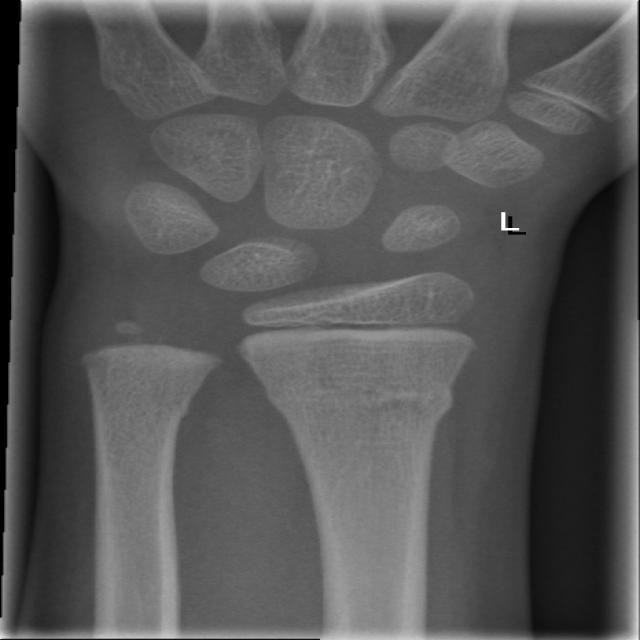radius fracture: (235, 362, 511, 462)
